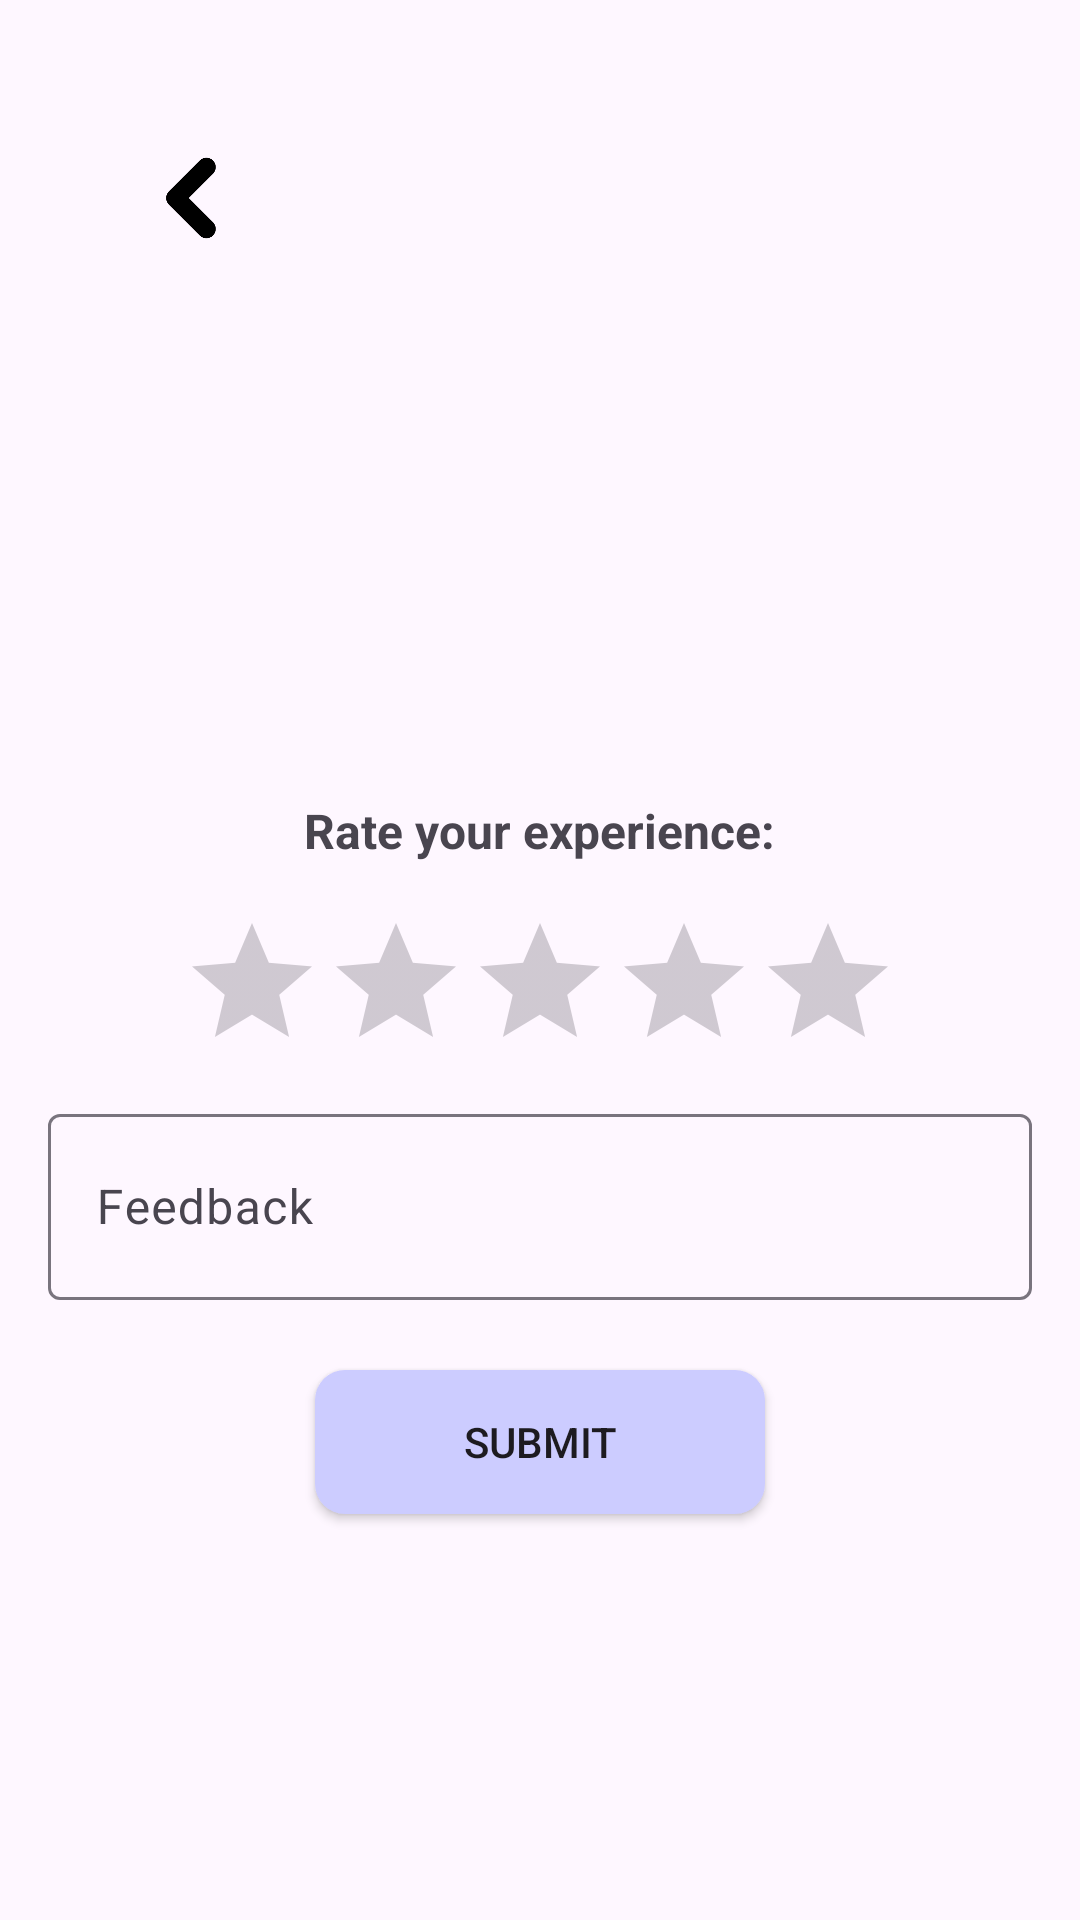

Locate icon controls on the screen. Image size 1080×1920, boxes as (x1, y1, x2, y2).
backbutton: (166, 157, 216, 239)
